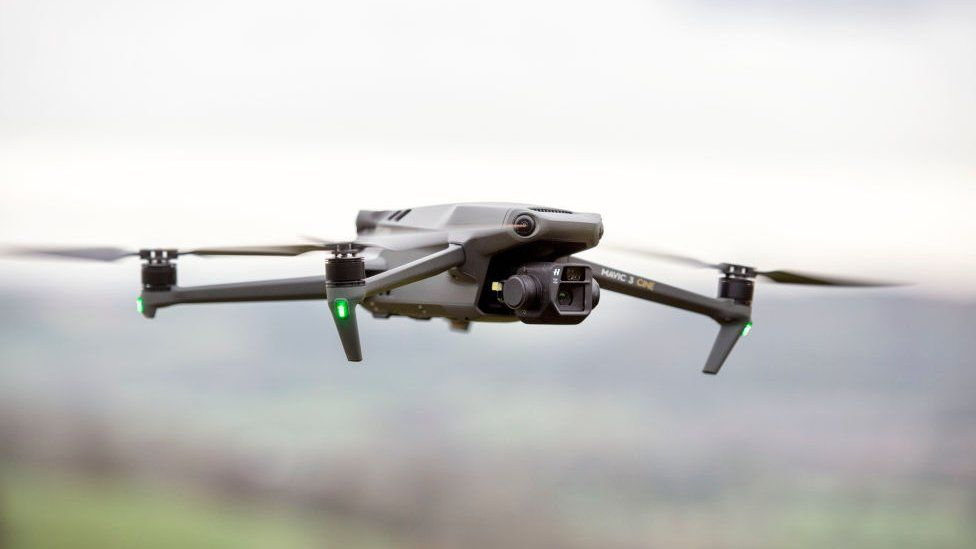drone: (1, 197, 896, 373)
